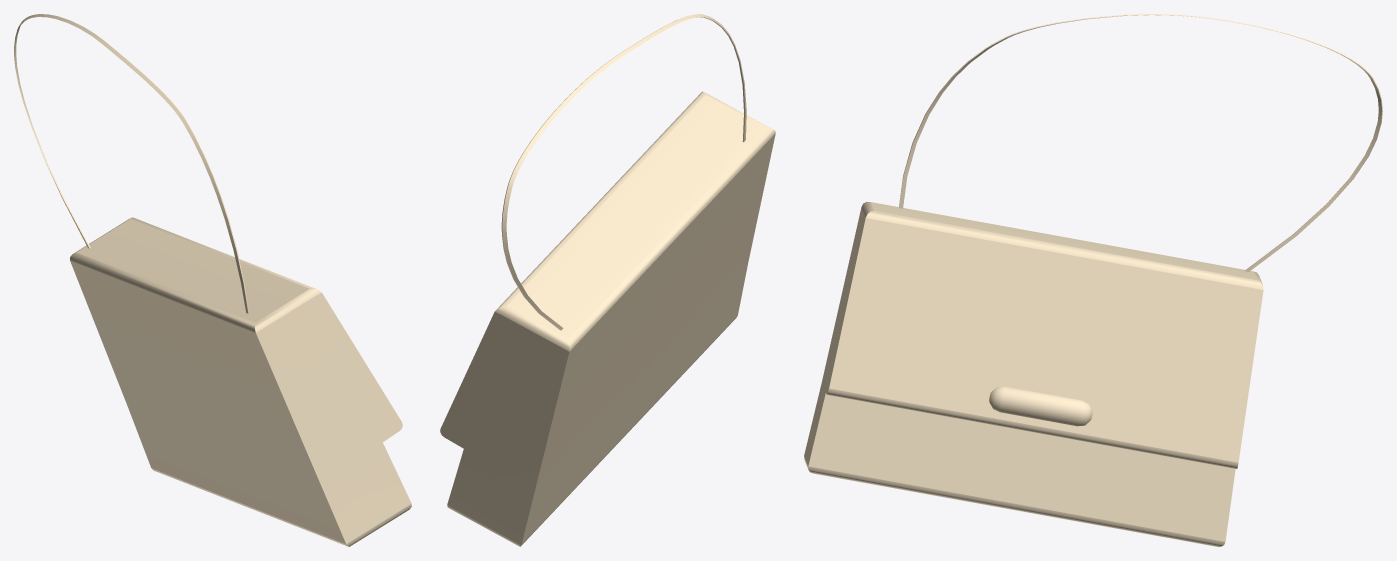
Rendered from sac.fbx.
3 renders of one model, left to right at view 1: azimuth 30°, elevation 25°; view 2: azimuth 150°, elevation 25°; view 3: azimuth 270°, elevation 25°, orthographic. The views are drawn at different scales.
Visible parts, largest first — view 1: poignée, sangle; view 2: poignée, sangle; view 3: poignée, sangle.
Boxes of the visible parts, bbox=[...] form: poignée: bbox=[70, 217, 411, 546]; sangle: bbox=[14, 14, 249, 313]; poignée: bbox=[440, 91, 775, 546]; sangle: bbox=[501, 14, 746, 330]; poignée: bbox=[804, 201, 1263, 546]; sangle: bbox=[899, 14, 1382, 271].
Bounding box in the file's own units: 30.85 × 97.01 × 105.
